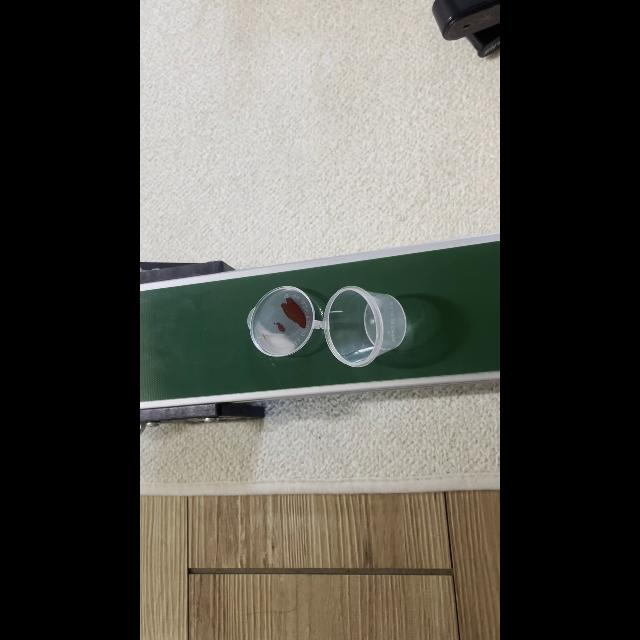dirty: (248, 284, 408, 366)
